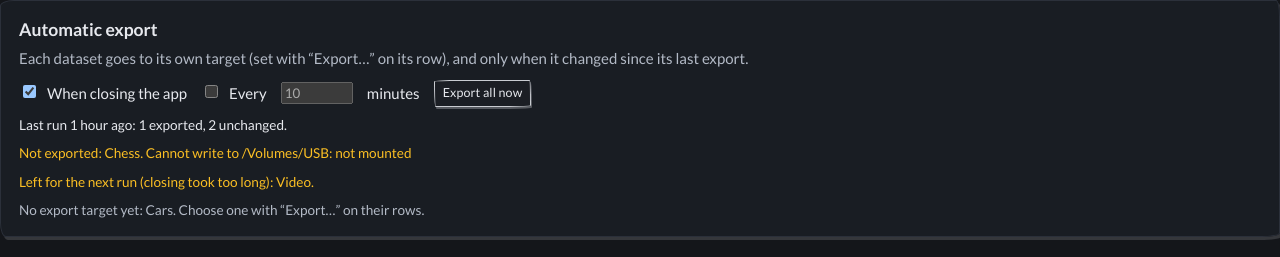
AutoExportSettings (doc 144) › exports all now and re-reads the list
Click the button "Export all now" at (482, 93), box left=434, top=80, right=531, bottom=107
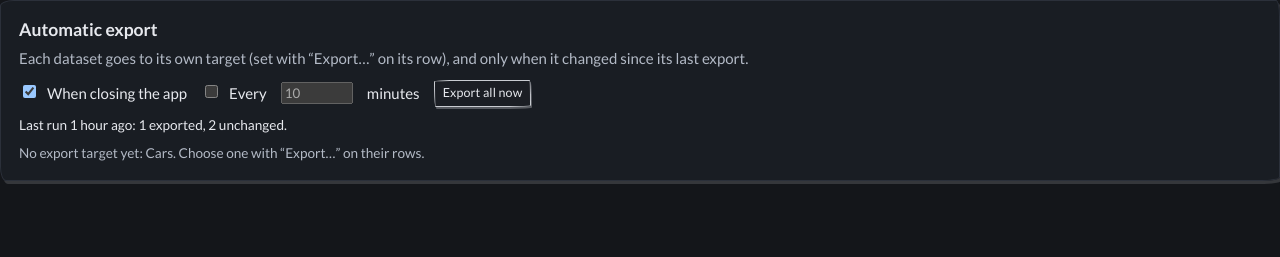
Result: the text "Not exported: Chess" is gone
